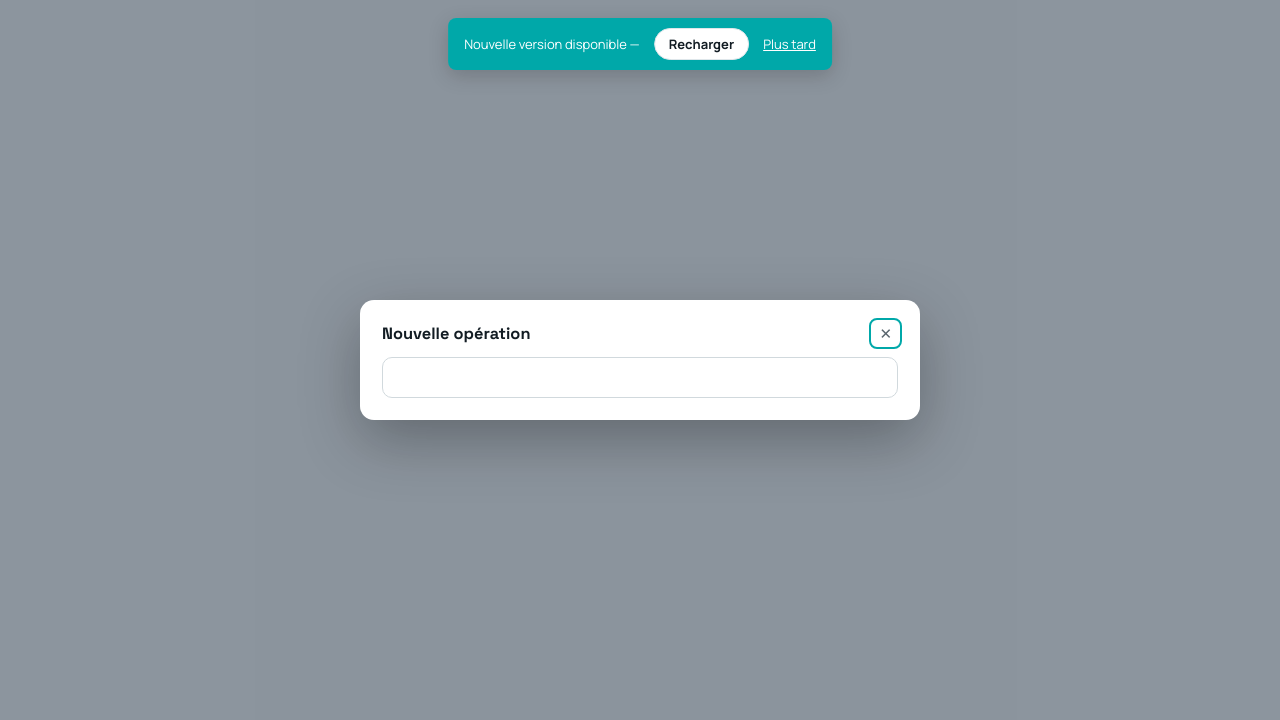
Test: notice de mise à jour › saisie en cours › demande confirmation quand une fenêtre est ouverte, sans recharger
Click the button "Recharger" at (701, 44), box [654,28,749,60]
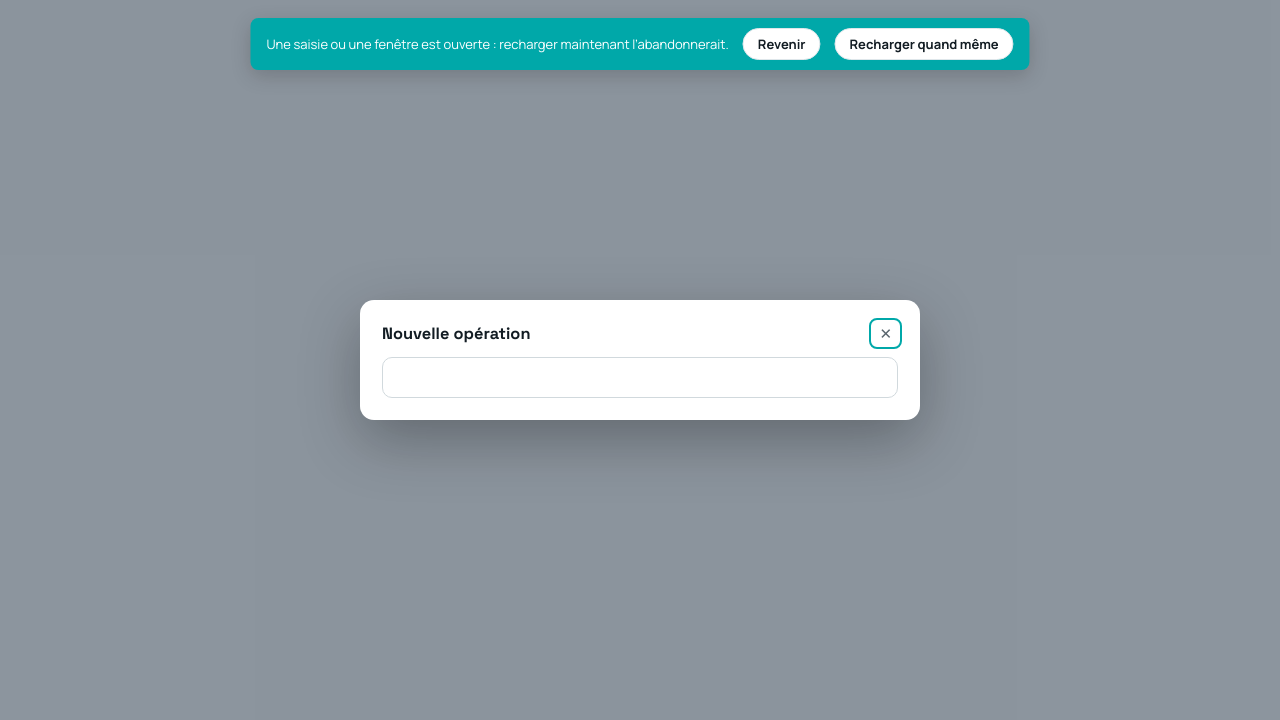
Check: the message shows "recharger maintenant l’abandonnerait", box [266,35,729,53]
